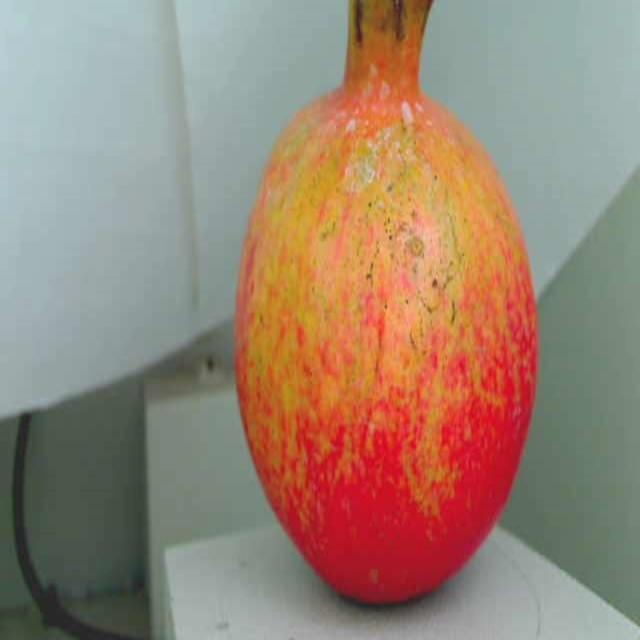pomegranate: (219, 0, 545, 614)
